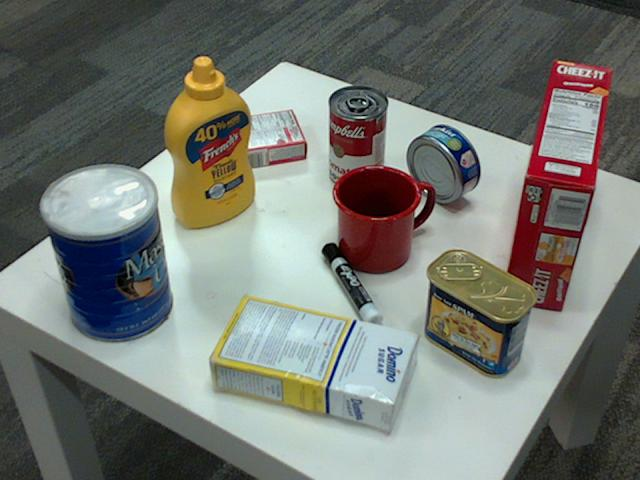cracker_box: (500, 58, 611, 308)
gelatin_box: (225, 106, 308, 167)
large_marker: (321, 244, 382, 332)
master_chef_can: (37, 165, 170, 343)
mug: (330, 162, 430, 270)
mustard_bottle: (162, 56, 255, 227)
potted_meat_can: (421, 248, 537, 376)
sugar_box: (203, 292, 416, 429)
tomato_soup_can: (327, 86, 387, 190)
tuna_fish_can: (405, 123, 478, 202)
